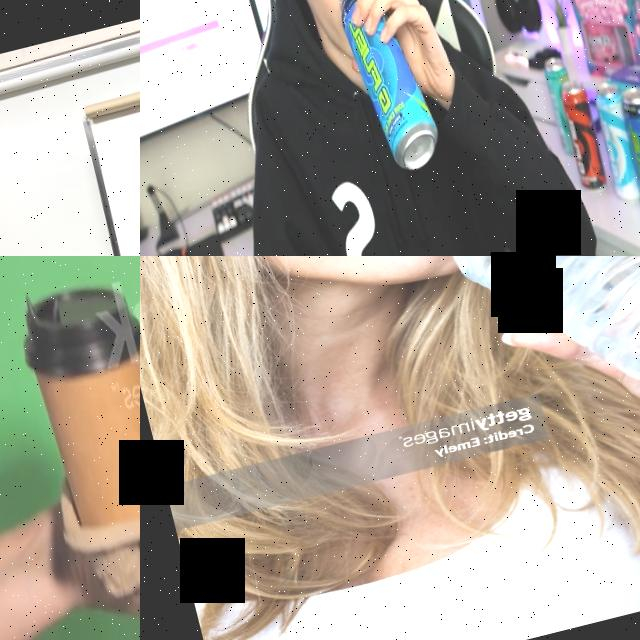bottle: (417, 256, 640, 439)
can: (333, 0, 449, 181)
cup: (10, 275, 140, 537)
